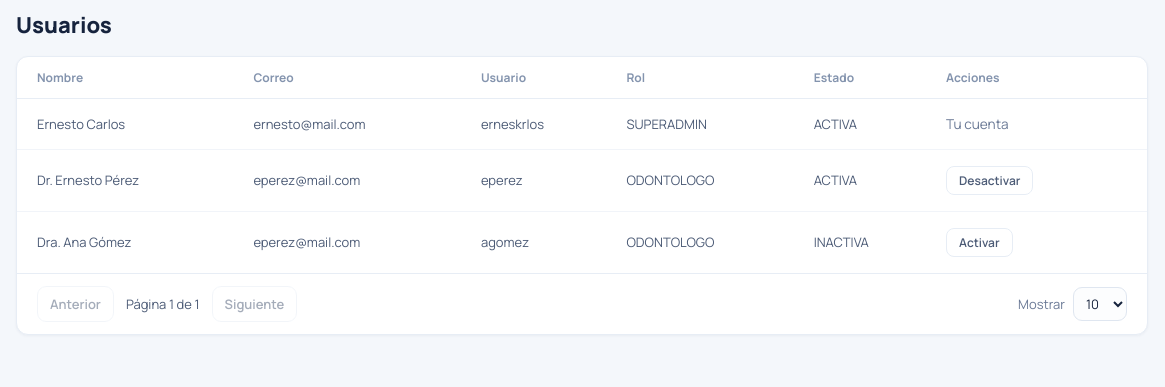
UsuariosListado › cu17 activa una cuenta dada de baja
Expected: the text "Dra. Ana Gómez" is shown, [17,211,241,272]
Click the button "Activar" at (979, 242), box [946,228,1012,256]
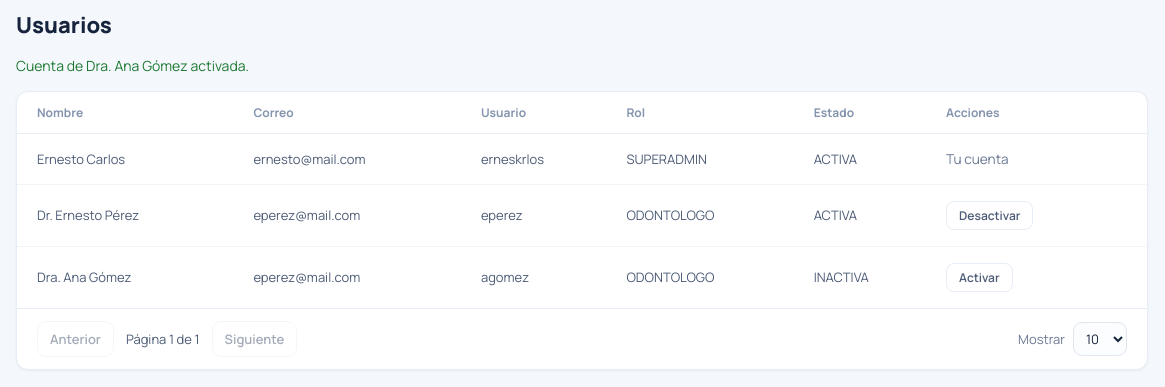
Now the message shows "activada", box [16,56,249,74]
